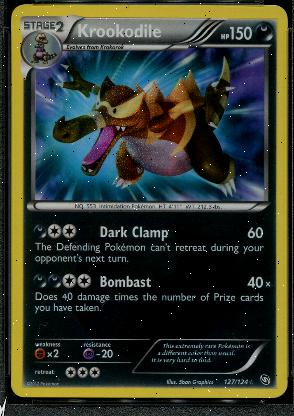Card: (8, 2, 288, 400)
